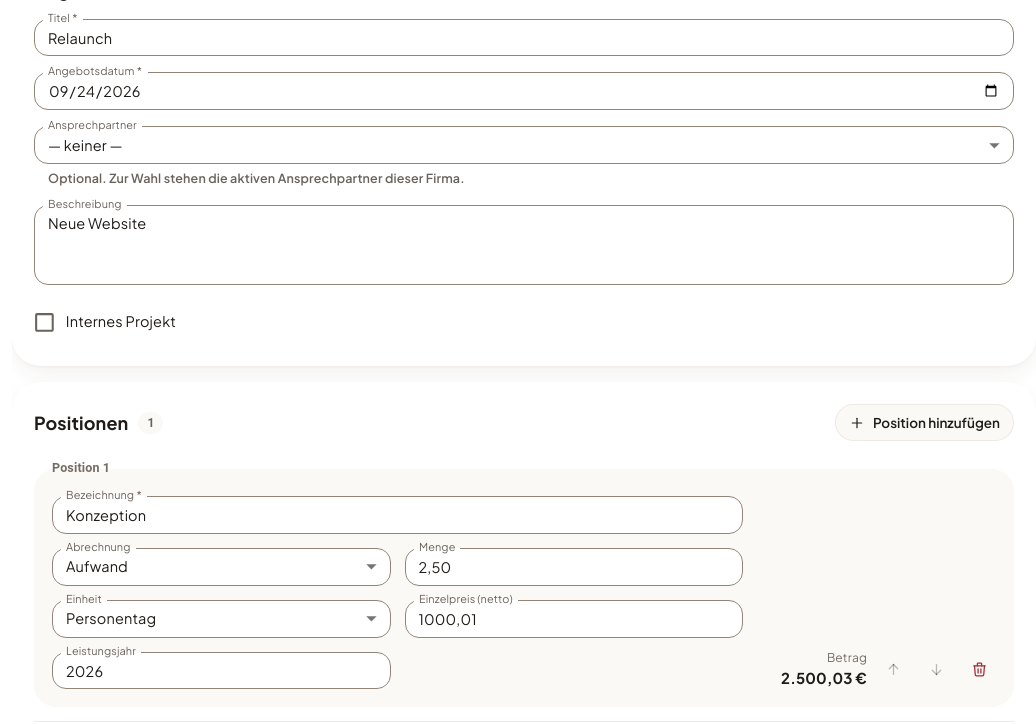
Test: AngebotMaske — das Angebot bearbeiten (Issue #127, Kriterium 5) › zeigt die Summe und rechnet beim Tippen mit
Replace the text in the field labelled "Menge" with "2": (574, 567) [404,548,743,586]
(page scrolled)
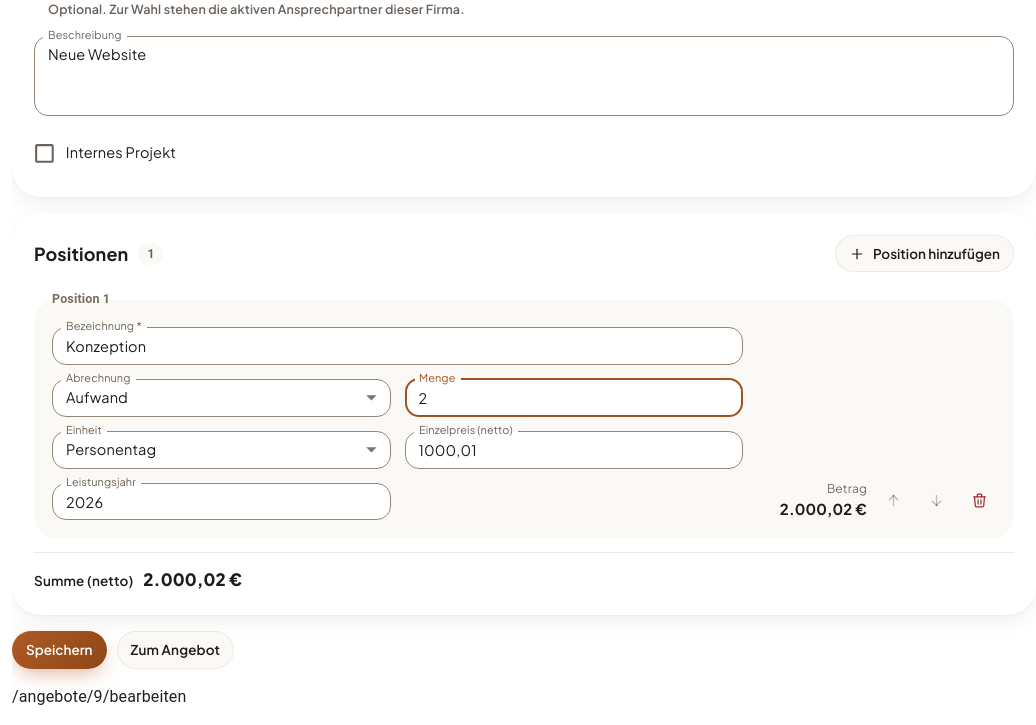
Result: the text with test id "angebot-summe" reads "2.000,02 €" at [143,568,242,590]
